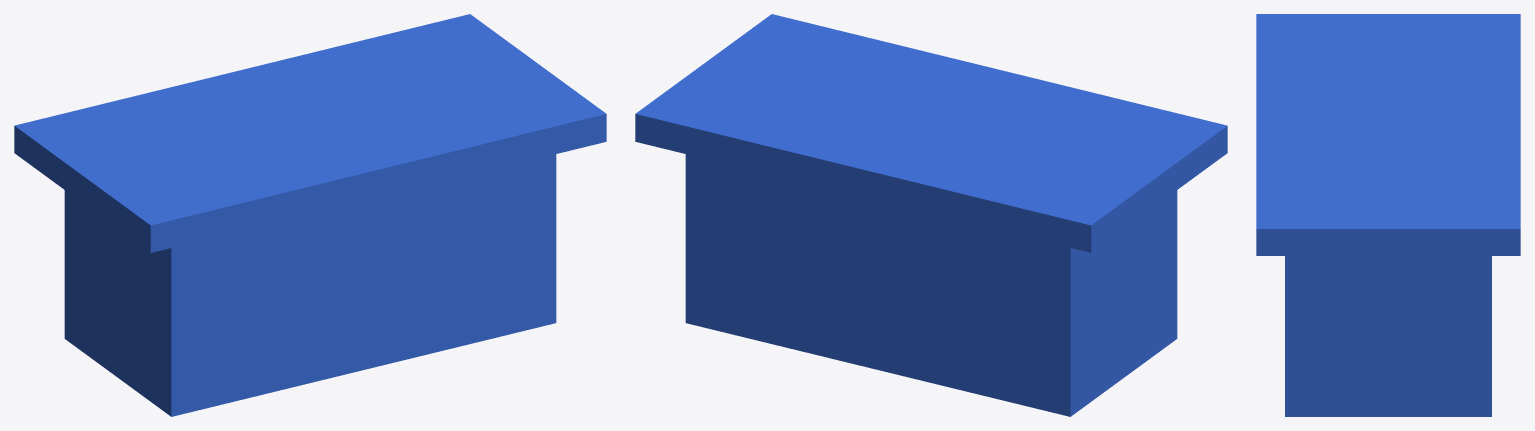
File: Collision_Workbench.fbx
3 renders of one model, left to right at view 1: azimuth 30°, elevation 25°; view 2: azimuth 150°, elevation 25°; view 3: azimuth 270°, elevation 25°, orthographic. The views are drawn at different scales.
Parts seen in each view (by area): view 1: UCX_Workbench_2, UCX_Workbench_1; view 2: UCX_Workbench_2, UCX_Workbench_1; view 3: UCX_Workbench_1, UCX_Workbench_2.
Part boxes in pixels (box(x1,y1,x2,y2)): UCX_Workbench_2: box(64, 154, 556, 416); UCX_Workbench_1: box(14, 14, 606, 252); UCX_Workbench_2: box(685, 154, 1177, 416); UCX_Workbench_1: box(635, 14, 1227, 252); UCX_Workbench_1: box(1256, 14, 1520, 255); UCX_Workbench_2: box(1285, 256, 1491, 416).
Bounding box in the file's own units: 201 × 89.04 × 104.
